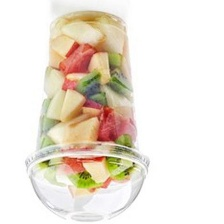glass: (21, 7, 153, 223)
